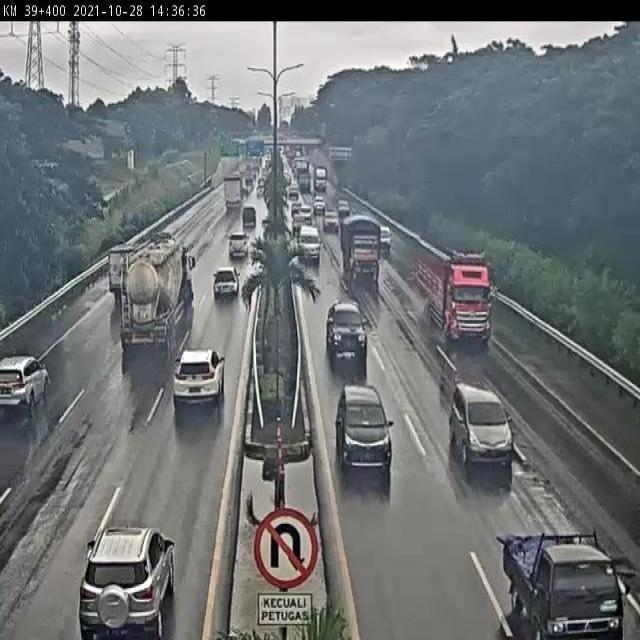truck-m-: (416, 248, 492, 340), (337, 208, 379, 276)
truck-xl-: (110, 245, 192, 358)
